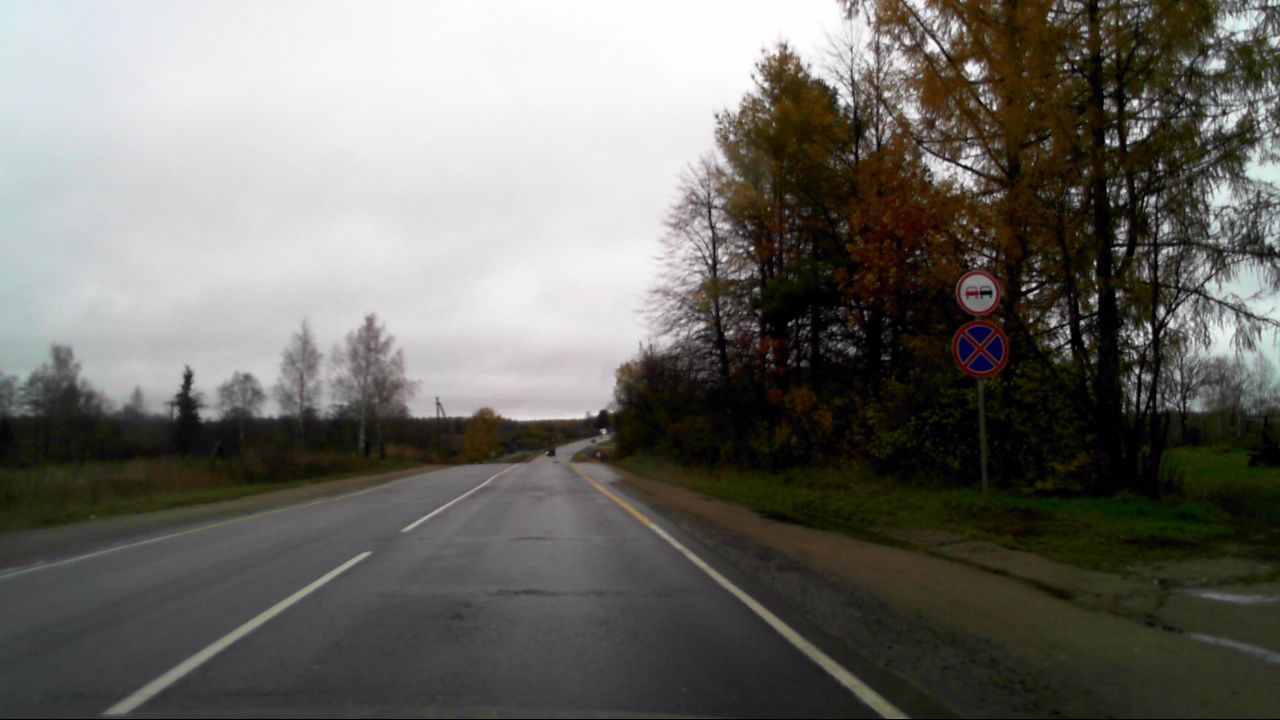No Parking: (951, 319, 1011, 381)
